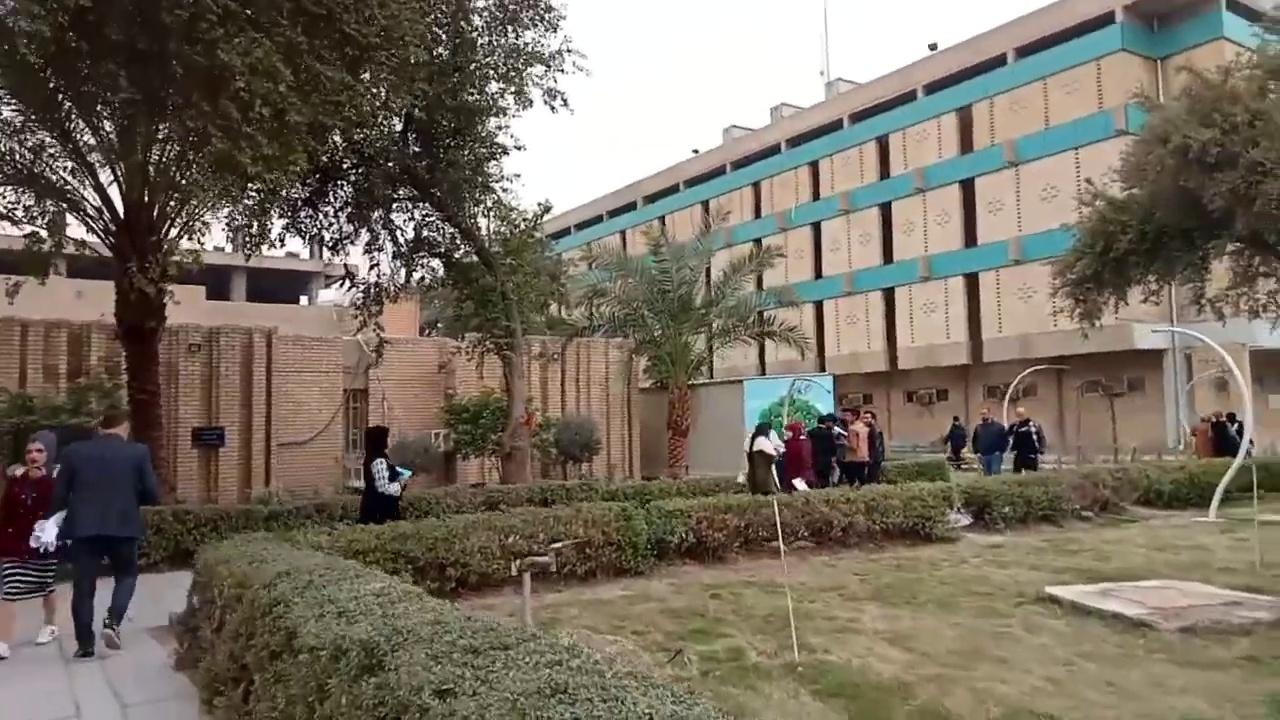fountain: (1042, 576, 1279, 636)
person: (44, 405, 160, 658), (0, 429, 61, 659), (356, 424, 412, 525), (1005, 406, 1046, 473), (971, 406, 1009, 475), (941, 415, 967, 465)
tree: (0, 0, 589, 503), (291, 0, 591, 486), (167, 526, 733, 718), (1042, 43, 1278, 452), (566, 199, 812, 479), (428, 197, 573, 485), (0, 367, 128, 470), (435, 386, 554, 486), (551, 411, 602, 480)
